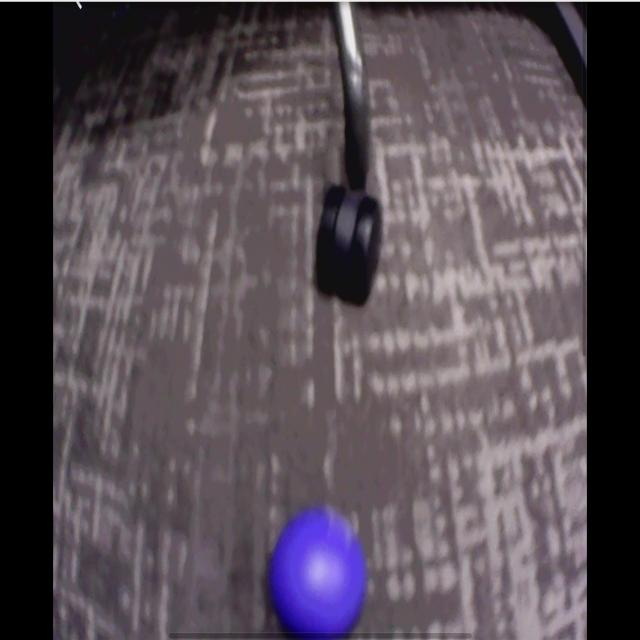ball: (272, 507, 367, 638)
